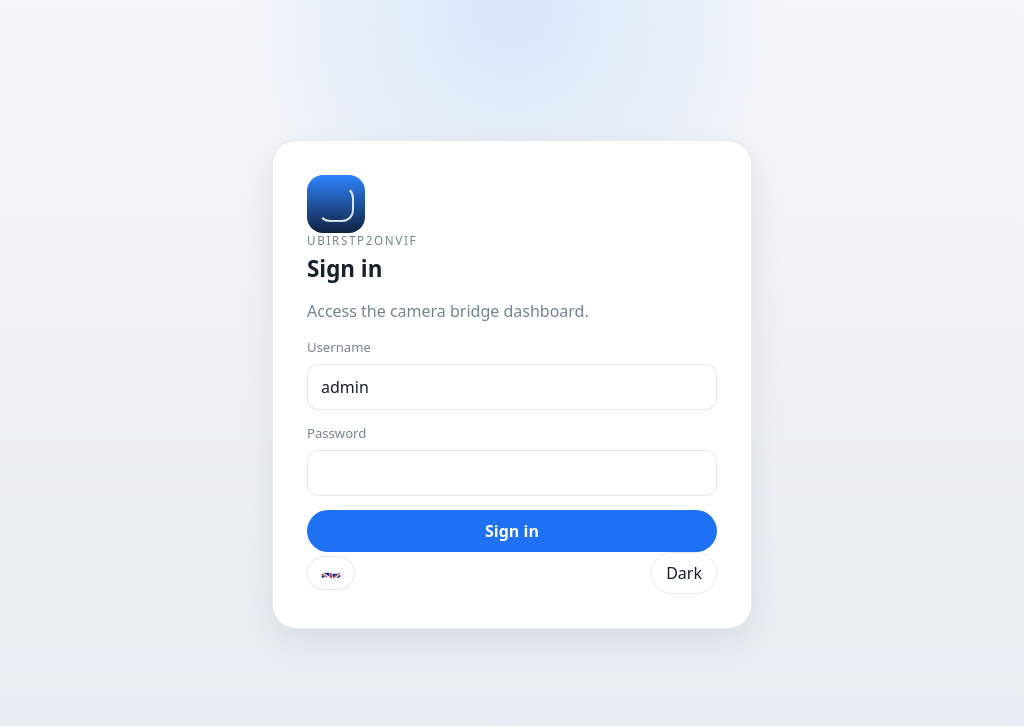
Test: App › loads the stream editor with API data
Click the button "Sign in": (512, 530) [307,510,717,552]
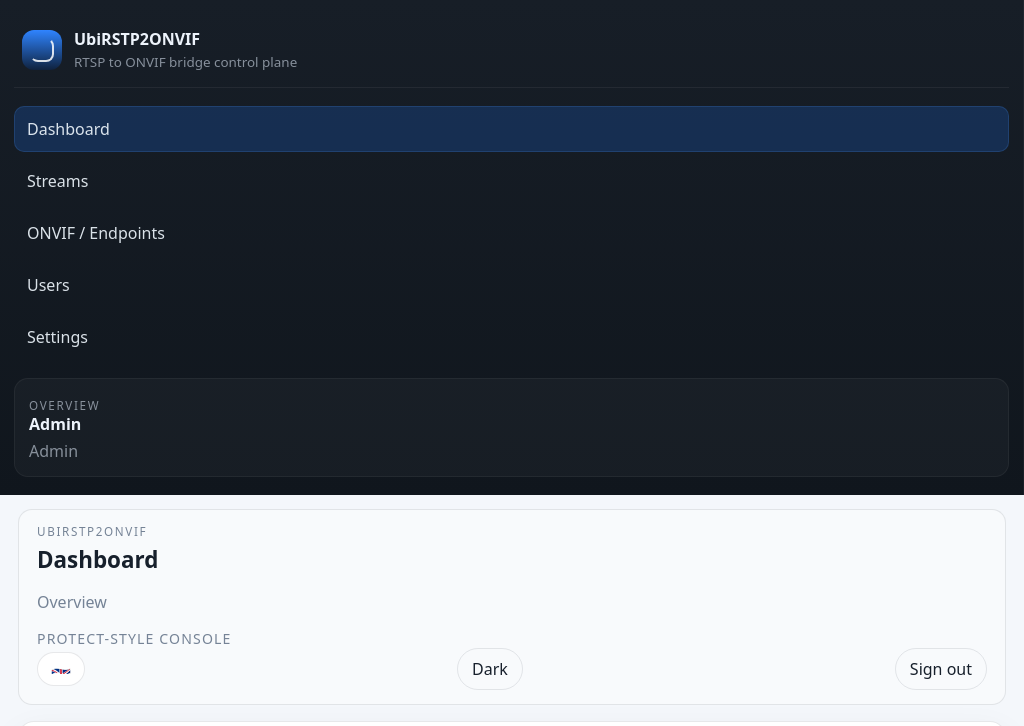
Check: the heading "Dashboard" is shown, box [37,544,158,575]
Click the link "Streams": (58, 181) [27,170,88,192]
(page scrolled)
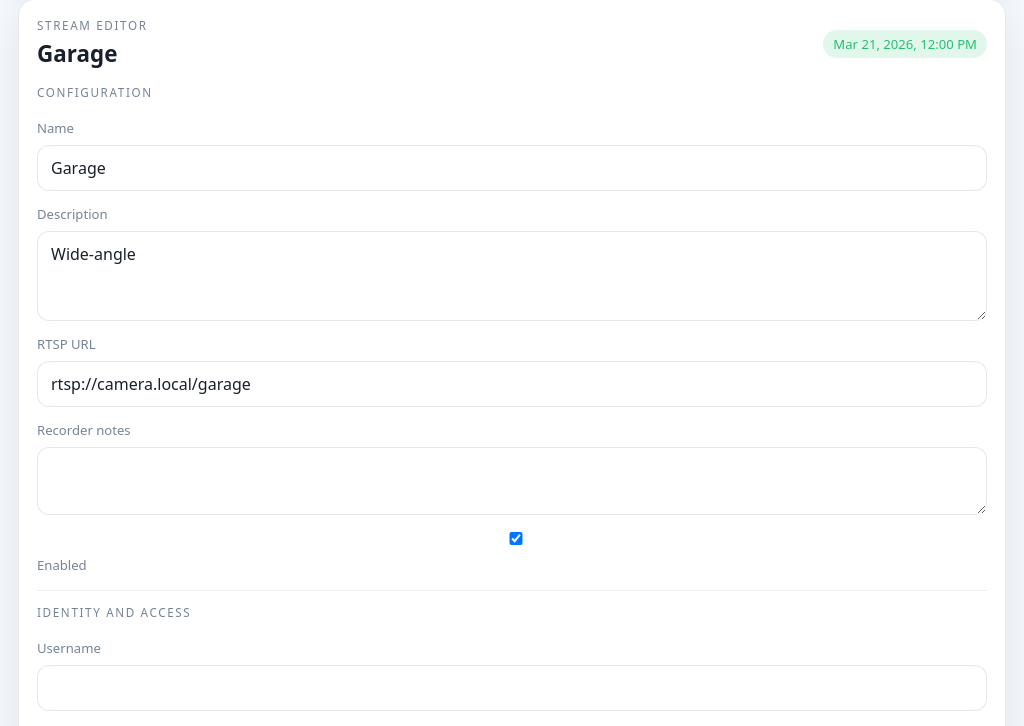
Check: the heading "Garage" is shown, box [37,38,117,69]
Check: the field showing "rtsp://camera.local/garage" is shown, box [37,361,987,407]
